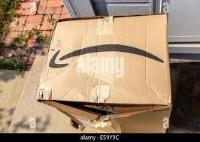damaged package: (40, 99, 170, 121)
undamaged: (34, 11, 173, 135)
